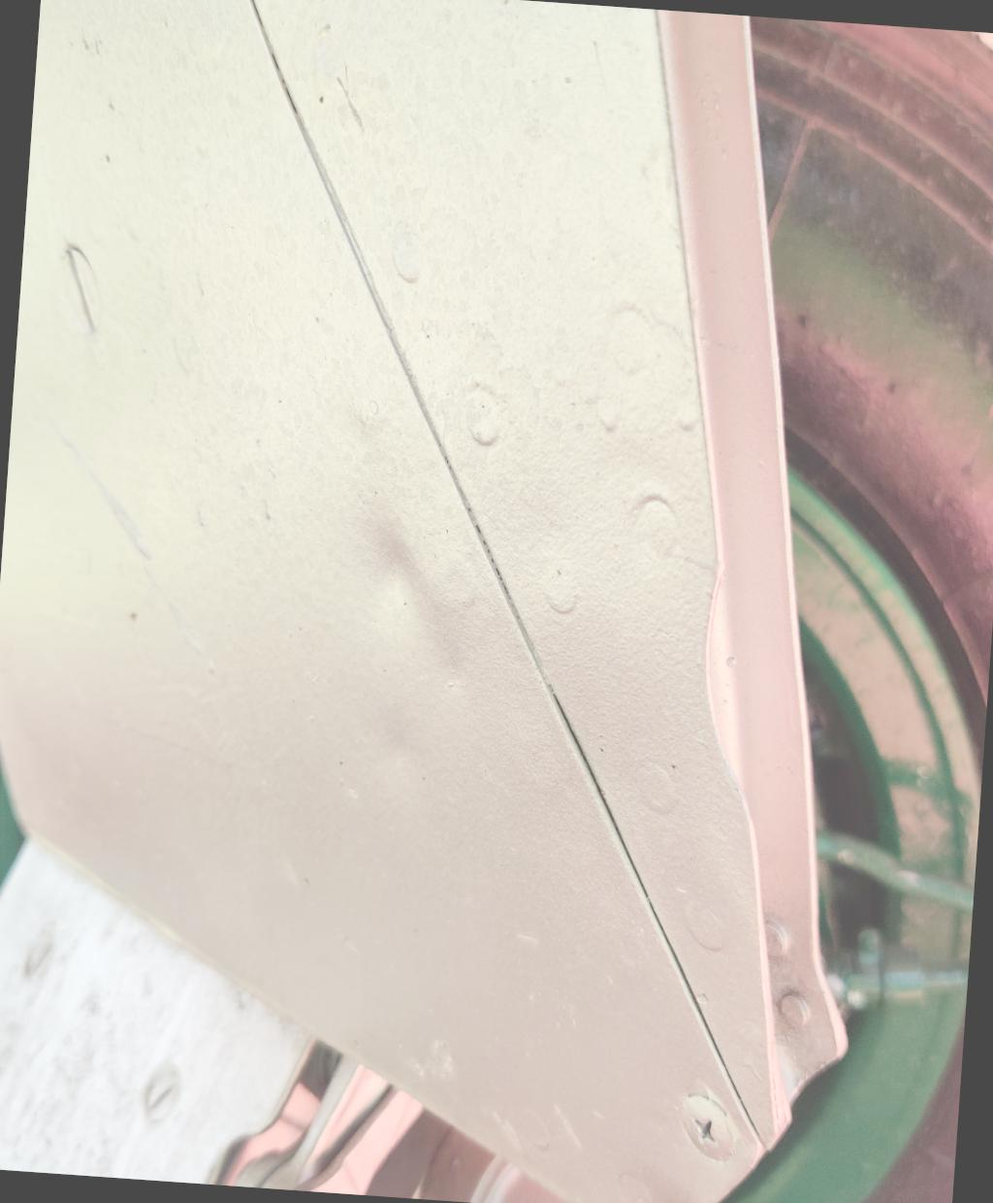dent: (342, 495, 495, 702)
